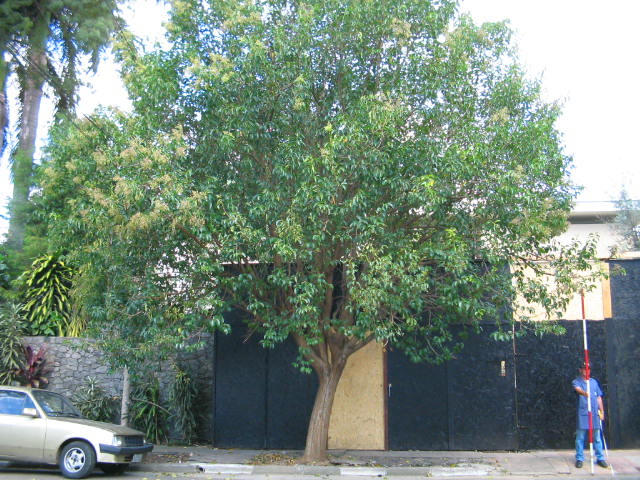crown: (44, 3, 598, 366)
stem: (284, 364, 356, 467)
stick: (576, 289, 598, 477)
tree: (40, 2, 598, 467)
